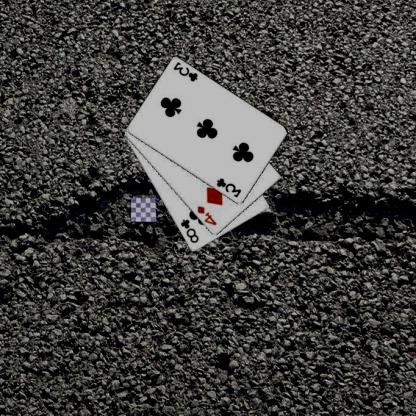3C: (216, 176, 245, 199), (172, 60, 200, 83)
4D: (196, 204, 219, 227)
8C: (180, 216, 202, 244)
